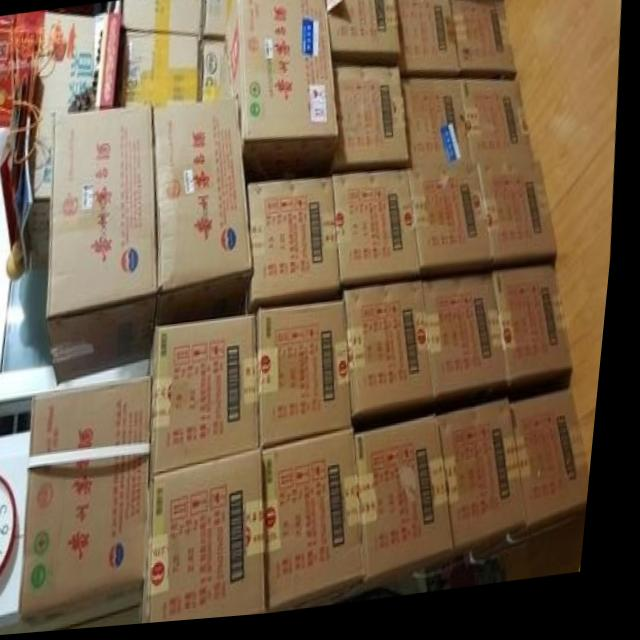box: (32, 380, 158, 634), (53, 104, 164, 389), (156, 99, 260, 329), (228, 0, 342, 191), (156, 453, 279, 627), (271, 434, 378, 616), (364, 424, 472, 599), (157, 319, 270, 482), (447, 408, 538, 595), (517, 399, 600, 586), (263, 303, 361, 450), (252, 182, 349, 320), (351, 291, 441, 429), (336, 177, 427, 297), (428, 284, 516, 407), (412, 166, 499, 284), (498, 275, 582, 392), (479, 168, 562, 275), (335, 68, 412, 180), (118, 30, 204, 111), (404, 83, 474, 176), (463, 86, 539, 167), (450, 0, 518, 89), (394, 0, 461, 84), (325, 0, 402, 73), (119, 0, 206, 44), (204, 42, 239, 100), (204, 0, 236, 41)
